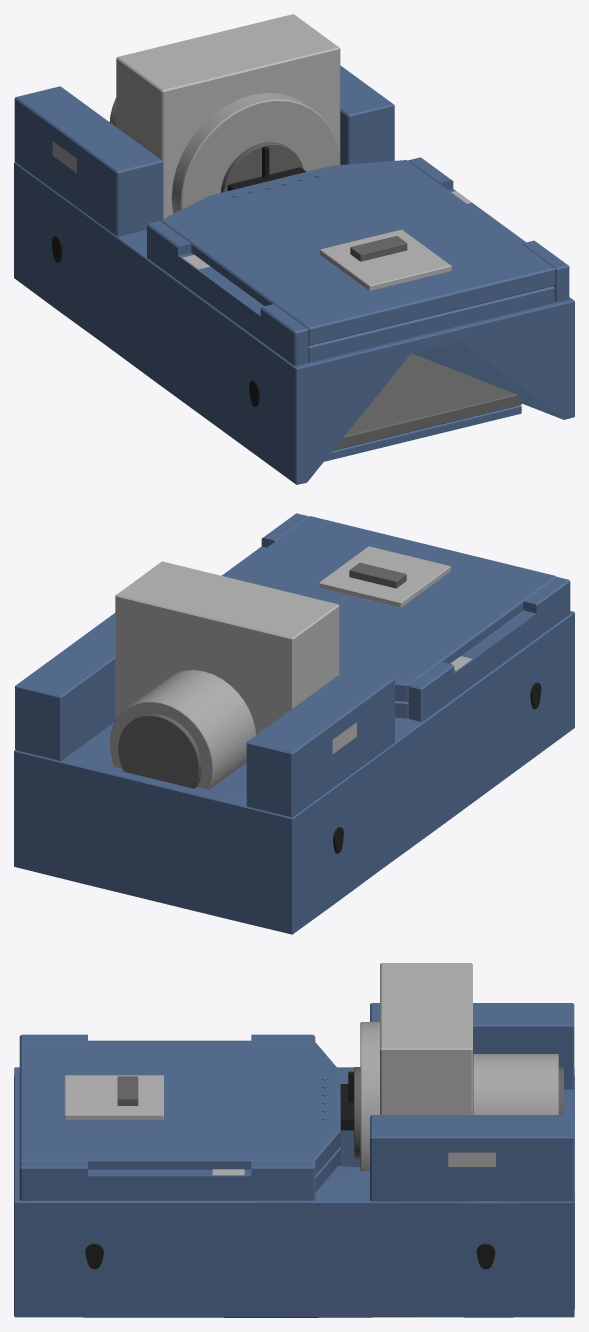
Rendered from SYL1_02.fbx.
The picture shows the model from 3 angles, top to bottom: view 1: azimuth 30°, elevation 25°; view 2: azimuth 150°, elevation 25°; view 3: azimuth 270°, elevation 25°; orthographic projection.
Visible parts, largest first — view 1: SYL1_02; view 2: SYL1_02; view 3: SYL1_02.
Part boxes in pixels (<box>): SYL1_02: <box>14,14,574,484</box>; SYL1_02: <box>14,513,574,934</box>; SYL1_02: <box>14,963,574,1317</box>.
Bounding box in the file's own units: 199 × 166 × 344.
